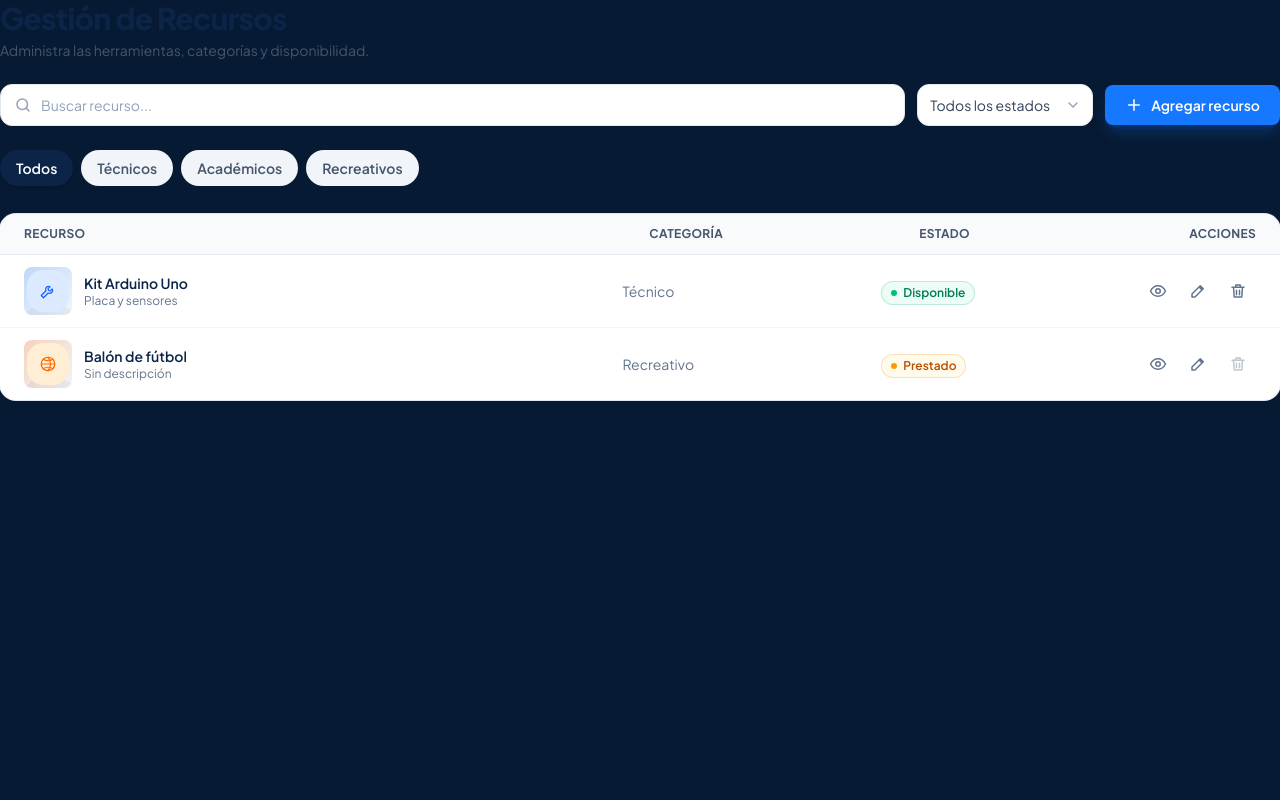
Gestión de recursos (HU-003) › el administrador elimina un recurso tras confirmar
Click the button named "Eliminar Kit Arduino Uno" at {"x": 1238, "y": 291}, box [1220,273,1256,309]
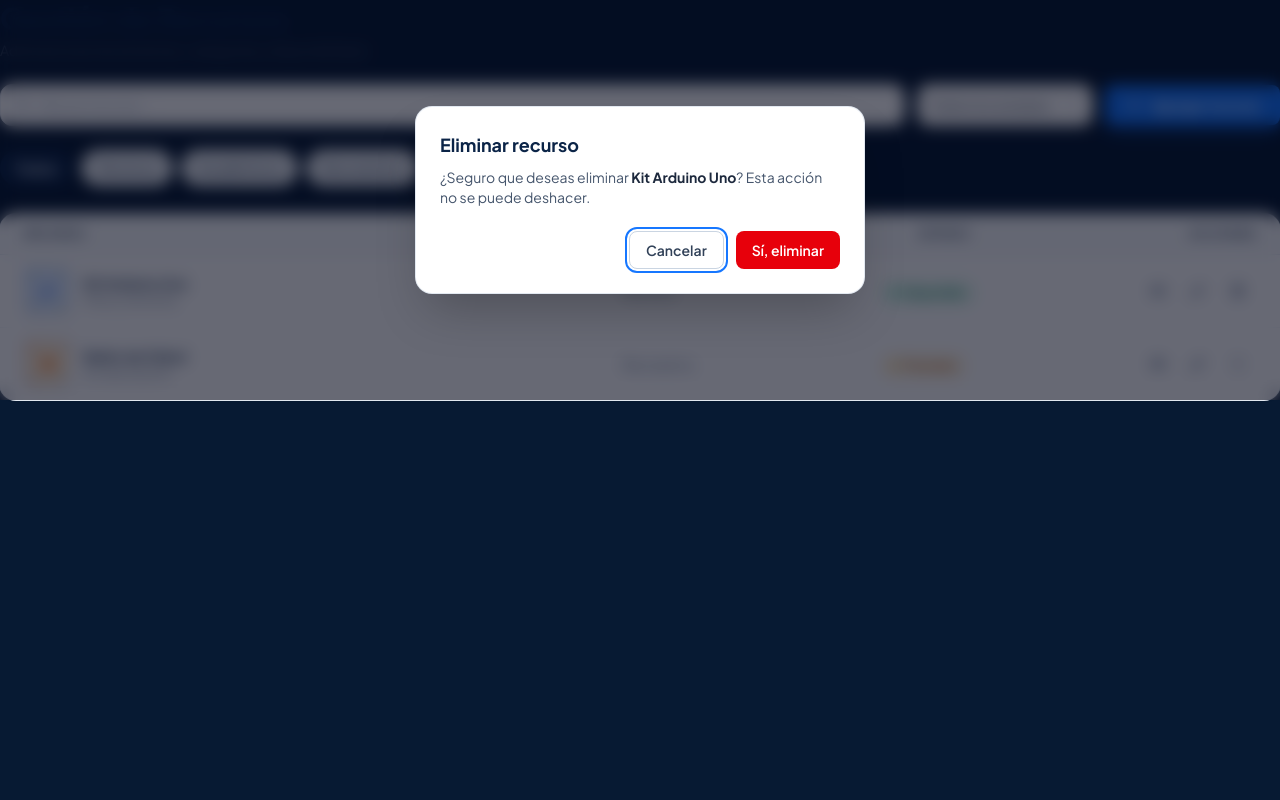
Check: the dialog shows "Kit Arduino Uno", box [631,168,736,186]
Click the button "Sí, eliminar" at {"x": 788, "y": 250}, box [736,231,840,269]
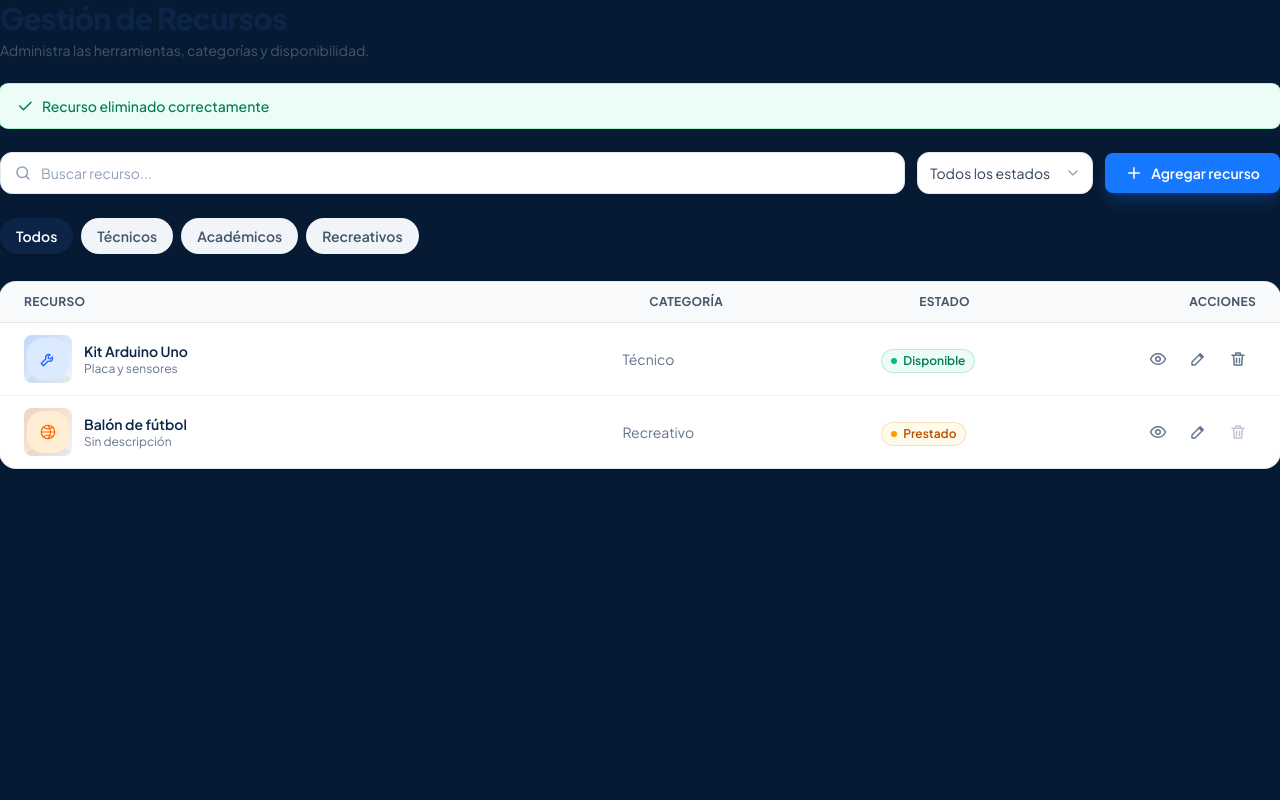
Check: the text "Recurso eliminado correctamente" is shown, box [42,96,269,116]
